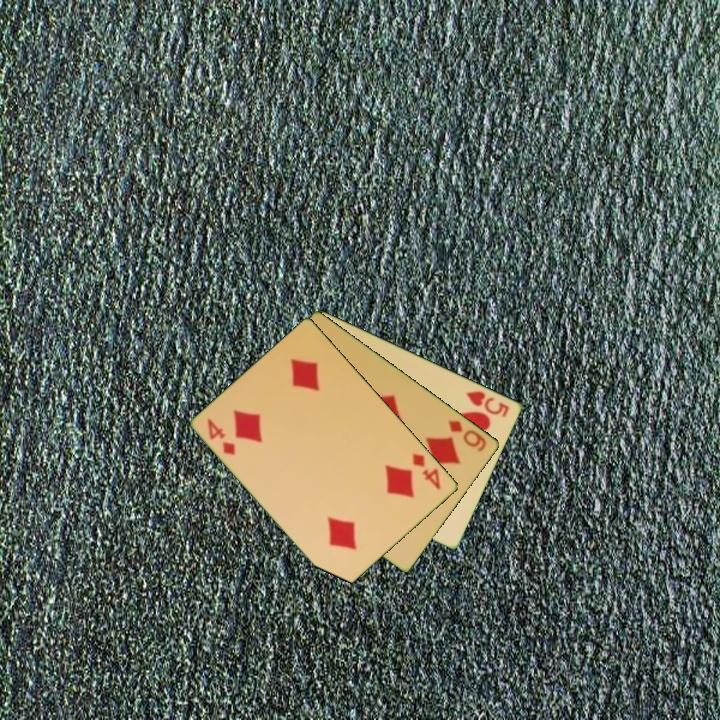4d: (204, 415, 239, 458), (409, 450, 444, 492)
5h: (462, 387, 513, 420)
6d: (445, 417, 490, 454)
